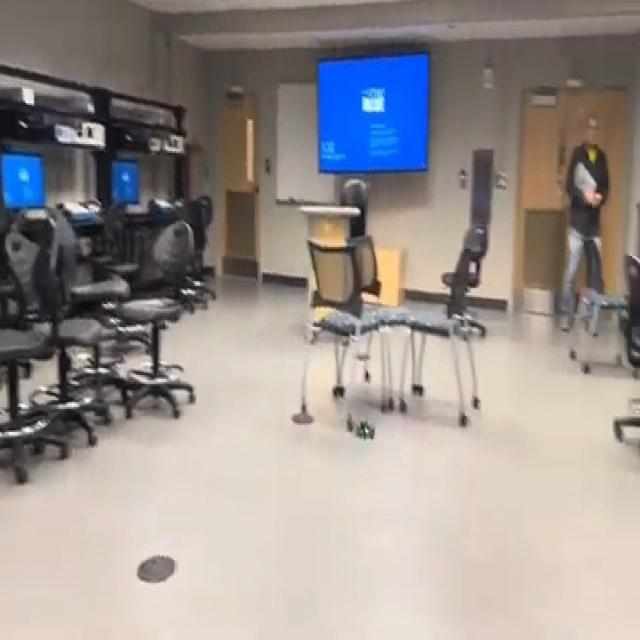drone: (340, 401, 386, 458)
